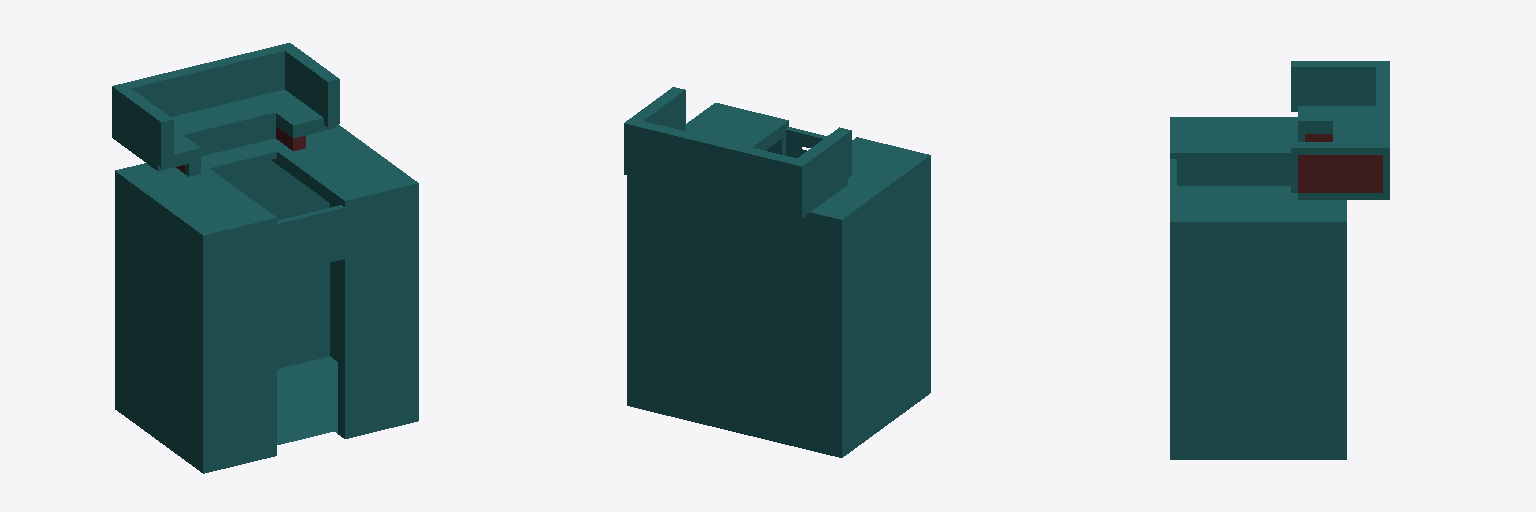
The picture shows the model from 3 angles: view 1: azimuth 30°, elevation 25°; view 2: azimuth 150°, elevation 25°; view 3: azimuth 270°, elevation 25°; orthographic projection.
Size of the model in its own units: 35 by 47 by 31.
1 materials, 1 textured.